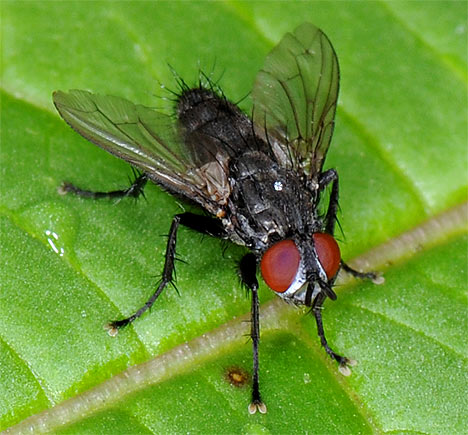green bottles flies: (38, 12, 386, 420)
